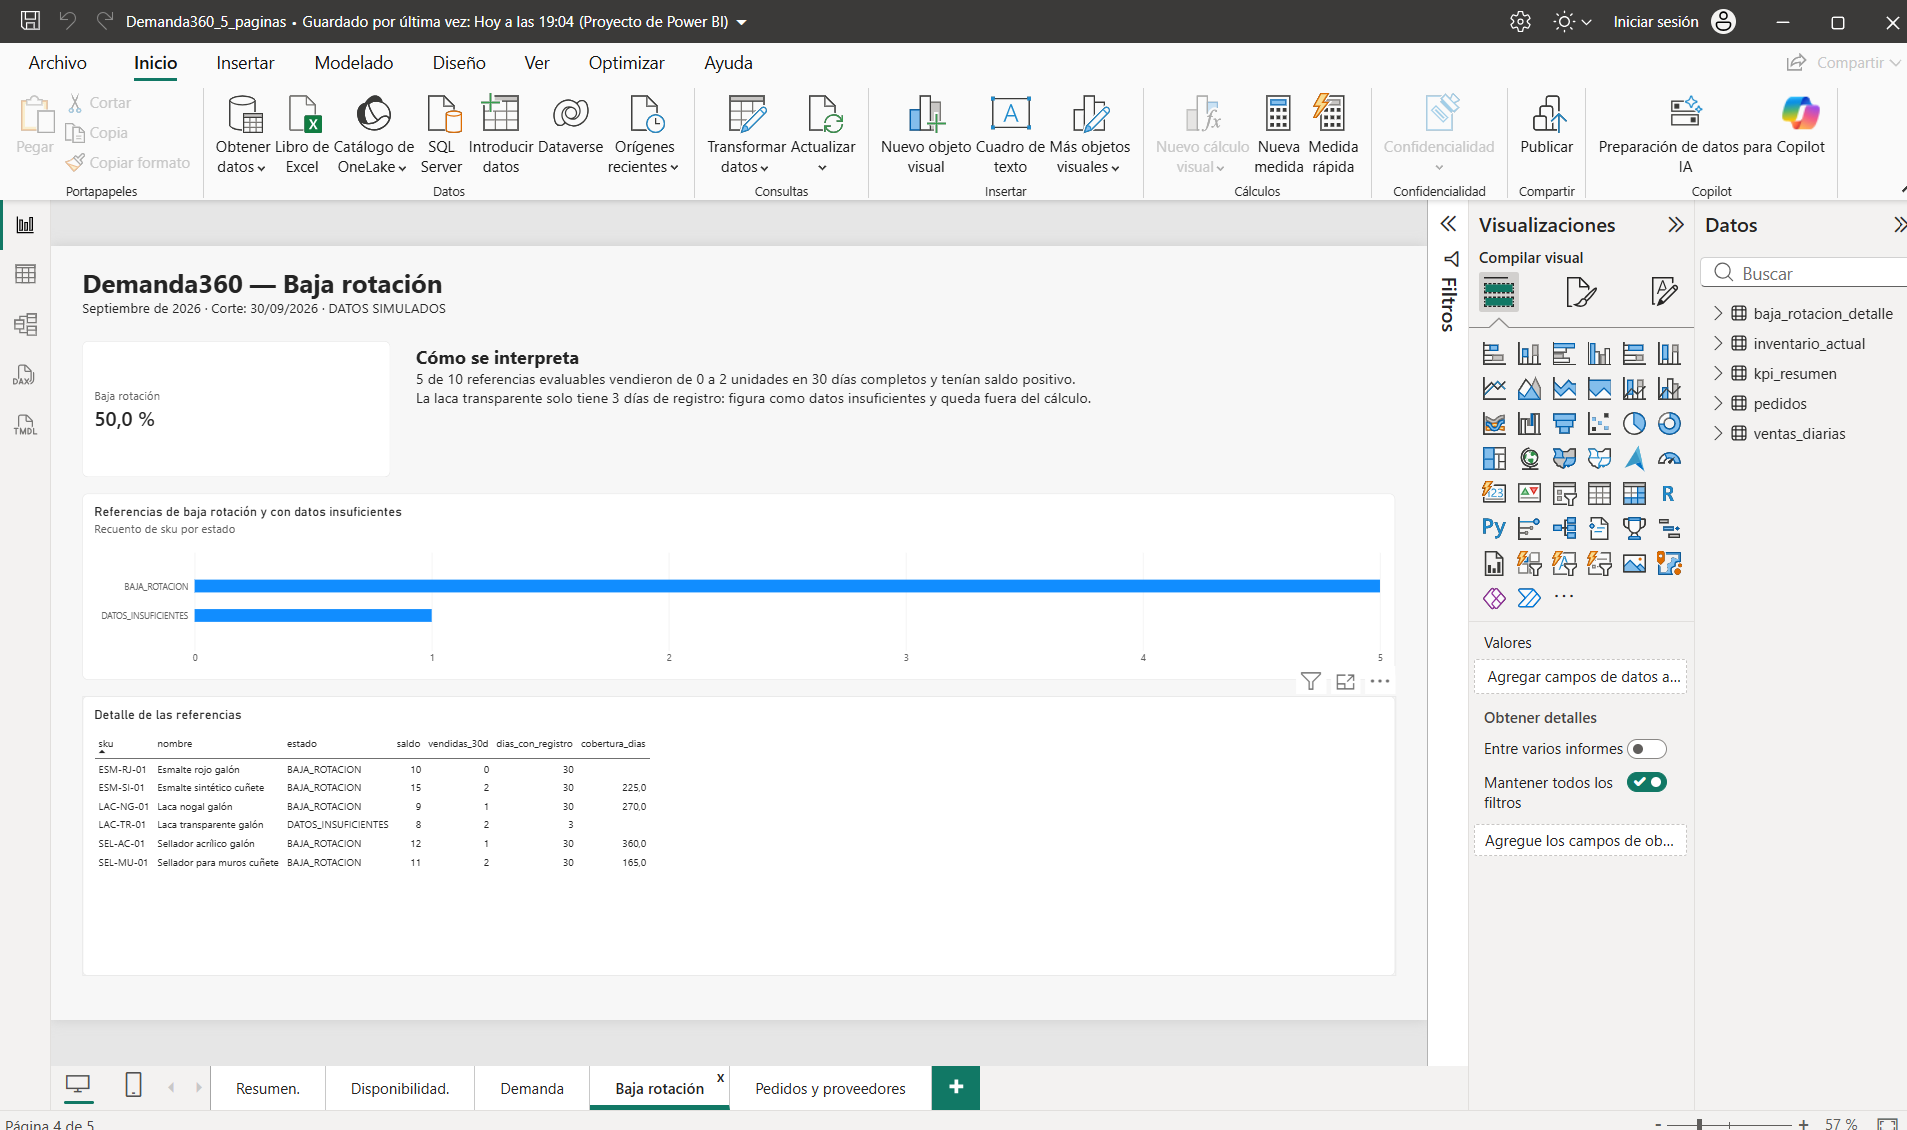

This screenshot's page, from the dashboard's own definition file:
{"tool":"powerbi","page":{"name":"Baja rotación","canvas":[1920,1080],"ordinal":3},"visuals":[{"type":"textbox","box":[44,26,1832,92],"z":0},{"type":"cardVisual","fields":{"Data":["kpi_resumen.Baja rotación"]},"box":[44,132,430,190],"z":1000},{"type":"textbox","box":[510,138,1350,168],"z":2000},{"type":"clusteredBarChart","title":"Referencias de baja rotación y con datos insuficientes","fields":{"Category":["baja_rotacion_detalle.estado"],"Y":["CountNonNull(baja_rotacion_detalle.sku)"]},"box":[44,346,1832,260],"z":3000},{"type":"tableEx","title":"Detalle de las referencias","fields":{"Values":["baja_rotacion_detalle.sku","baja_rotacion_detalle.nombre","baja_rotacion_detalle.estado","baja_rotacion_detalle.saldo","baja_rotacion_detalle.vendidas_30d","baja_rotacion_detalle.dias_con_registro","baja_rotacion_detalle.cobertura_dias"]},"box":[44,628,1832,390],"z":4000}]}

Visuals, with their boxes on the page's 1920x1080 design canvas (x1, y1, x2, y2). These are canvas units, not pixel positions in the 1907x1130 screenshot, which may show the page scaled, cropped or inside an application window:
textbox: rect(44, 26, 1876, 118)
cardVisual - kpi_resumen.Baja rotación: rect(44, 132, 474, 322)
textbox: rect(510, 138, 1860, 306)
"Referencias de baja rotación y con datos insuficientes" clusteredBarChart: rect(44, 346, 1876, 606)
"Detalle de las referencias" tableEx: rect(44, 628, 1876, 1018)
